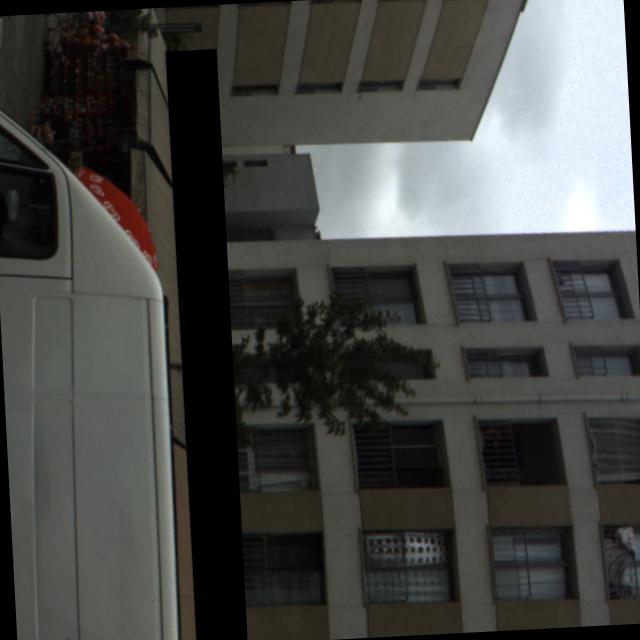SignStore: (164, 50, 246, 640)
